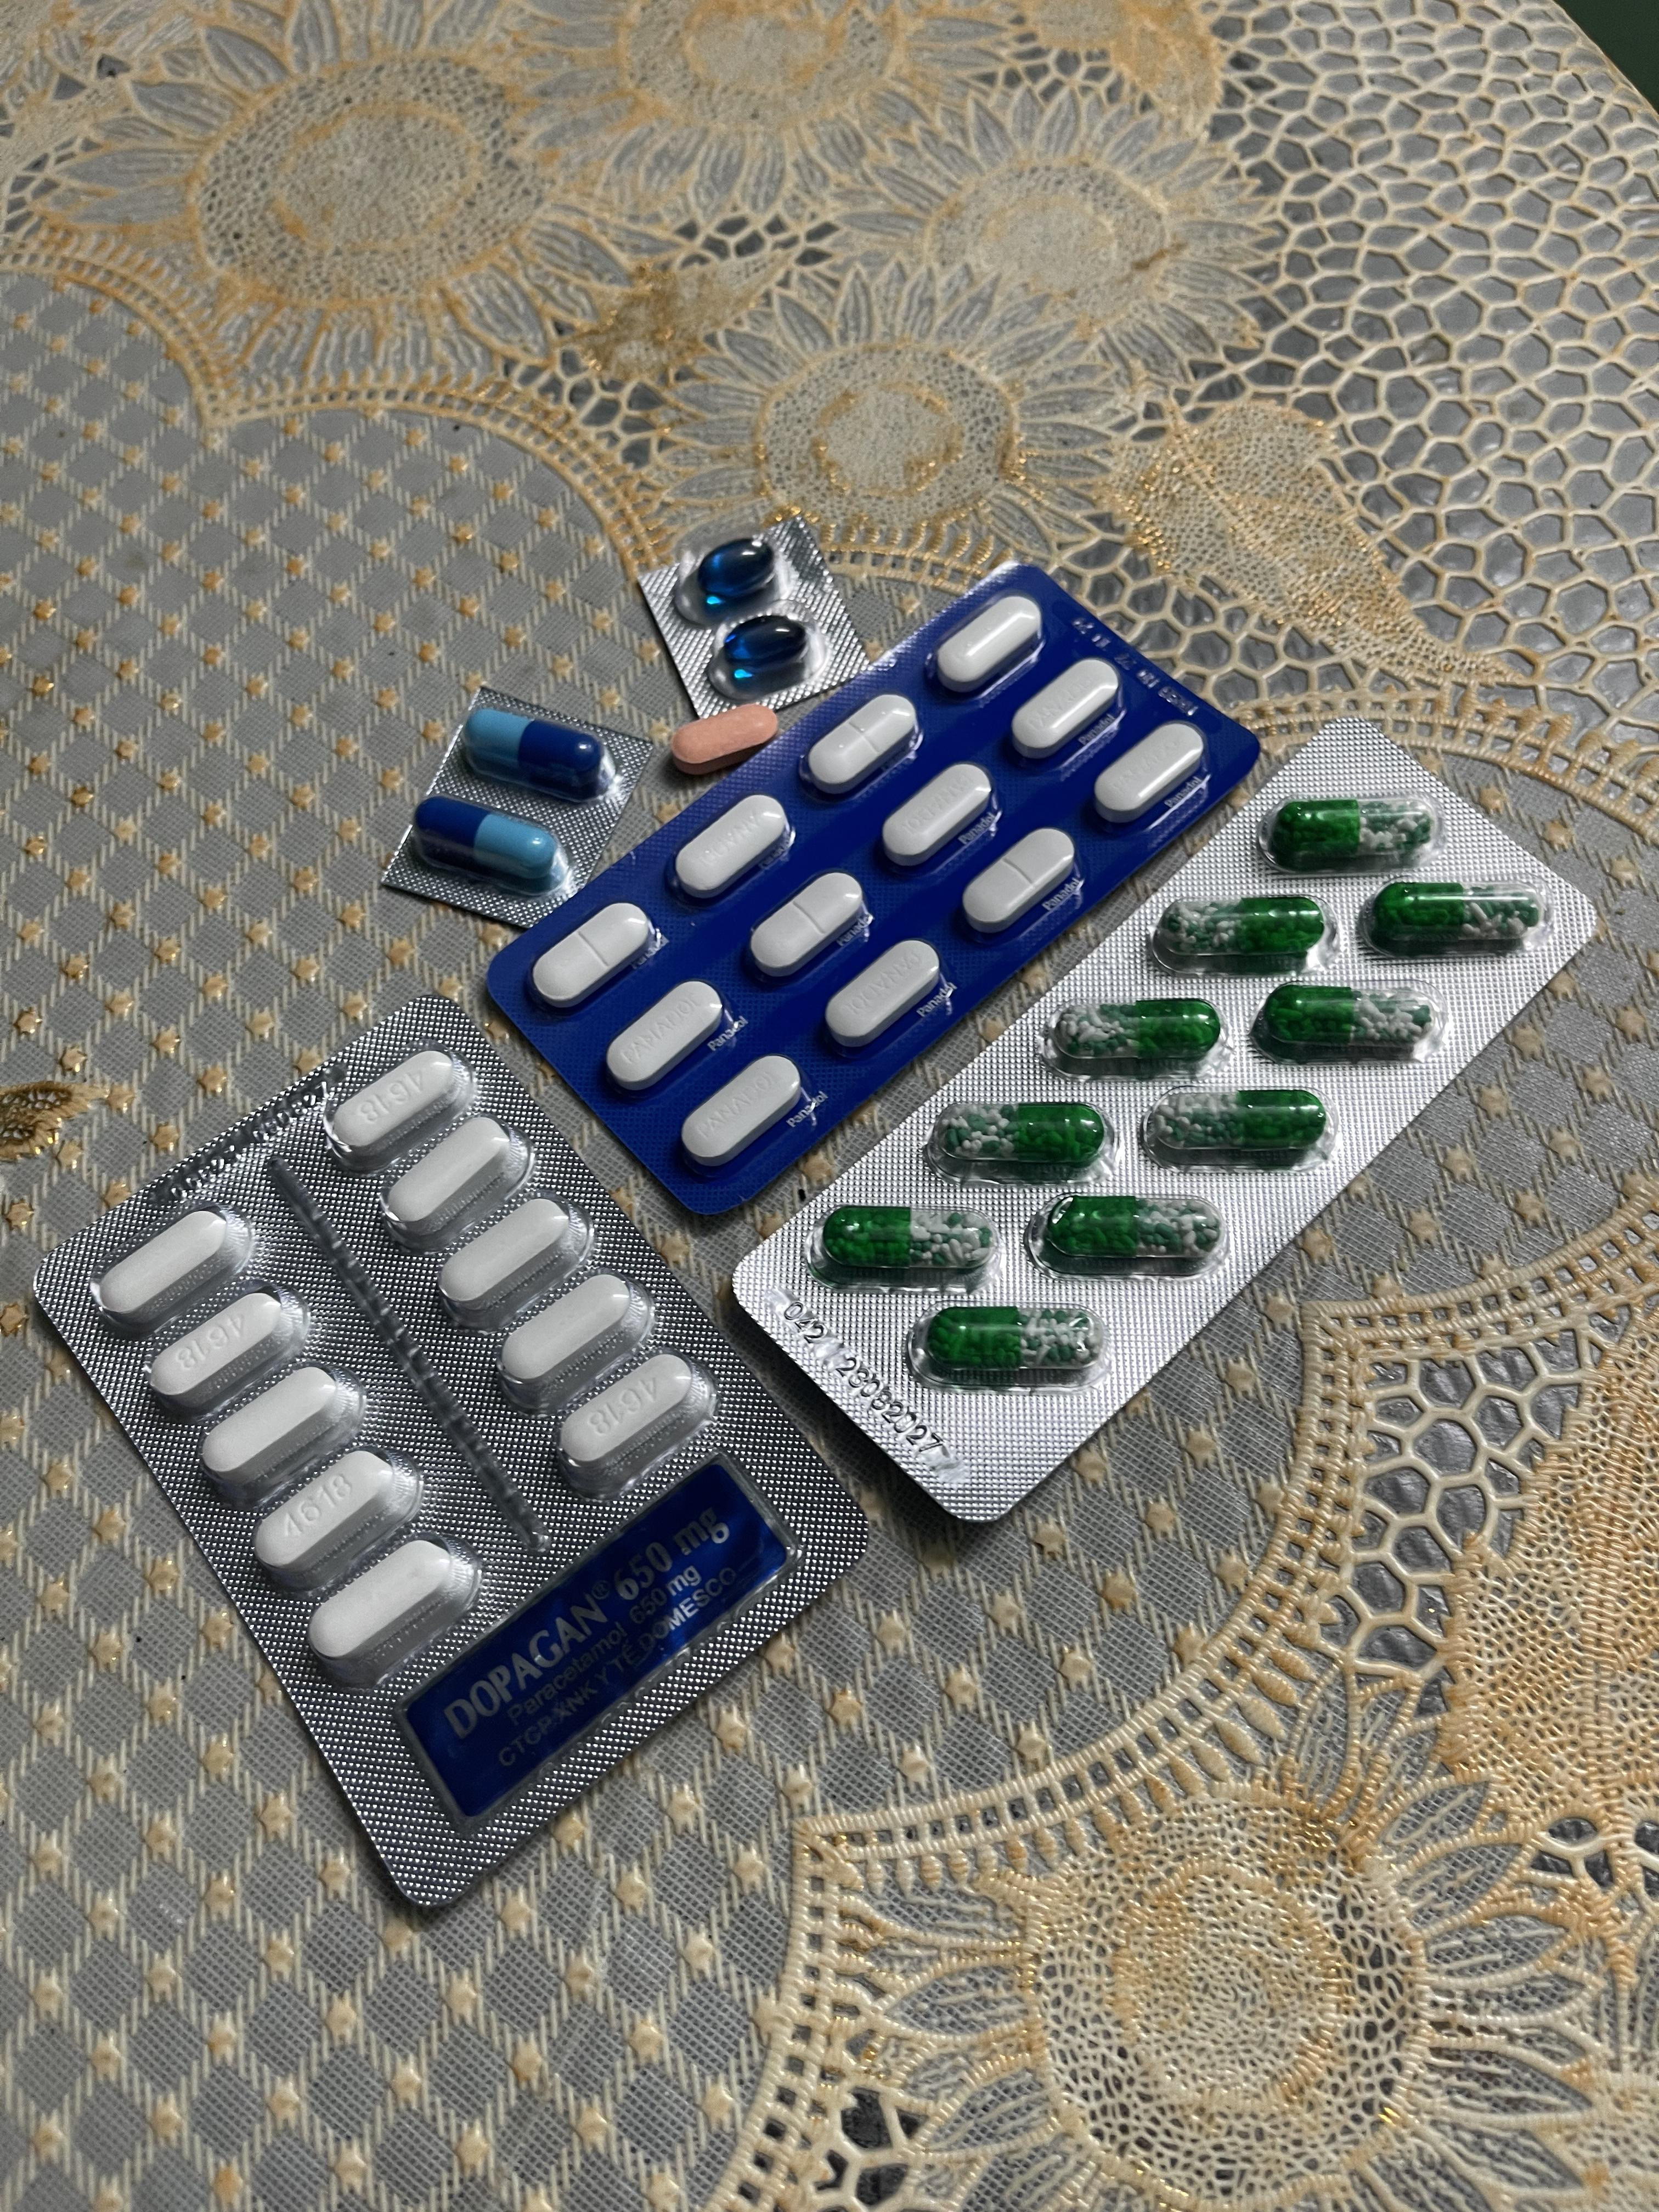Lincomyxin_500mg: (697, 536, 779, 606), (721, 613, 809, 676)
Loratadine_10mg: (669, 705, 781, 773)
Paracetamol_350mg: (606, 981, 728, 1090), (533, 900, 657, 1008), (826, 939, 943, 1050), (673, 792, 793, 900), (683, 1052, 807, 1157), (748, 871, 864, 977), (803, 691, 920, 798), (964, 829, 1077, 935), (882, 763, 997, 866), (1011, 657, 1122, 761), (1093, 721, 1206, 824), (931, 592, 1042, 693)
Paracetamol_500mg: (305, 1540, 474, 1683), (251, 1442, 416, 1585), (197, 1367, 361, 1505), (559, 1353, 711, 1496), (143, 1285, 303, 1418), (497, 1278, 648, 1411), (96, 1207, 247, 1331), (434, 1197, 580, 1320), (383, 1120, 523, 1240), (326, 1055, 467, 1165)
Paracetamol_650mg: (1363, 880, 1551, 954), (1267, 799, 1434, 866), (925, 1308, 1100, 1371), (1049, 1195, 1209, 1259), (824, 1211, 992, 1270), (1168, 897, 1324, 958), (1148, 1092, 1314, 1150), (1053, 1003, 1204, 1066), (941, 1104, 1105, 1160), (1265, 991, 1429, 1045)
pill: (464, 705, 610, 799), (415, 798, 565, 887)
